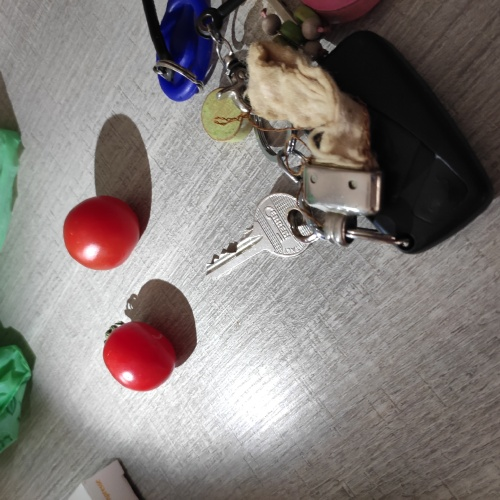pomodoro: (90, 310, 185, 401), (54, 194, 146, 273)
